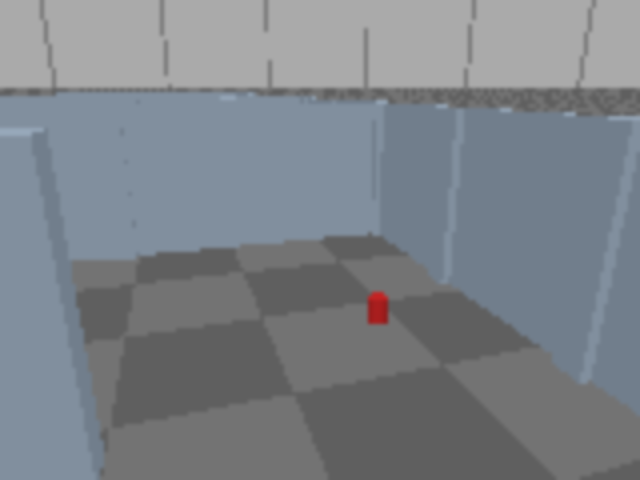puck: (367, 293, 390, 325)
